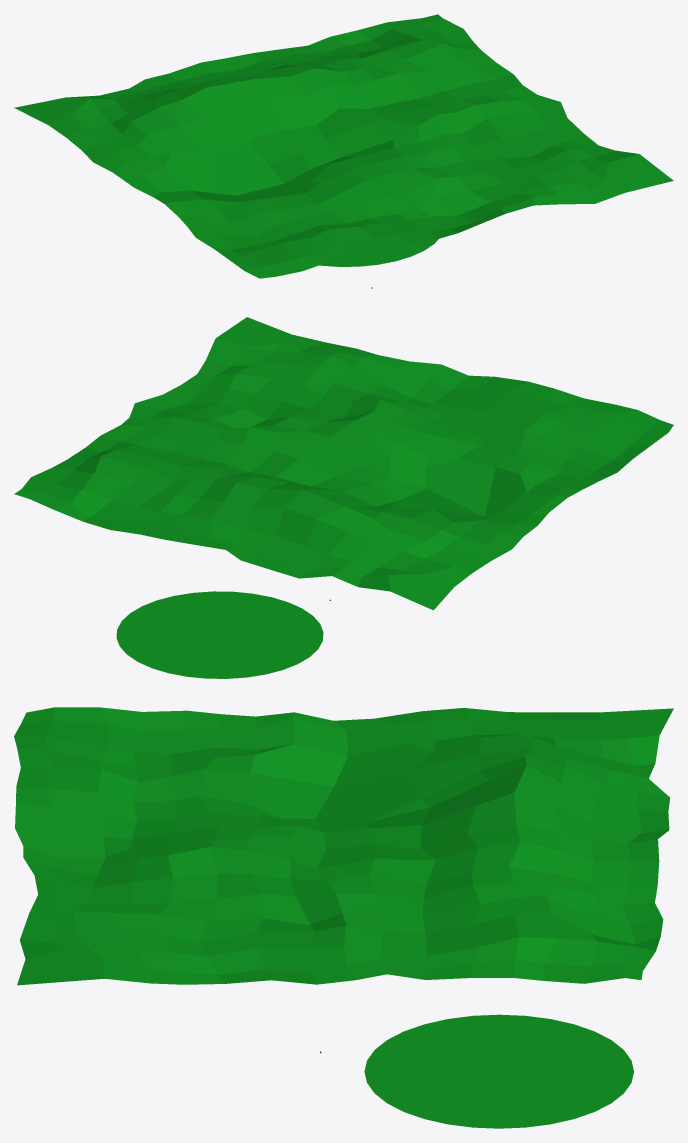
Rendered from HillLandscape.glb.
3 views of the same model, one above another, from view 1: azimuth 30°, elevation 25°; view 2: azimuth 150°, elevation 25°; view 3: azimuth 270°, elevation 25° (orthographic). The views are drawn at different scales.
Parts seen in each view (by area): view 1: Plane; view 2: Plane; view 3: Plane.
Boxes of the visible parts, left/top/right/bottom form: Plane: left=14, top=14, right=673, bottom=288; Plane: left=14, top=317, right=673, bottom=678; Plane: left=14, top=707, right=673, bottom=1128.
Size of the model in its own units: 999 by 384 by 1000.
